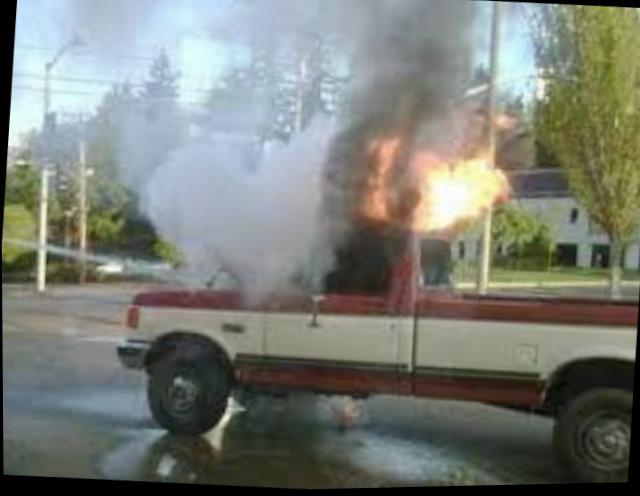fire: (329, 109, 516, 249)
